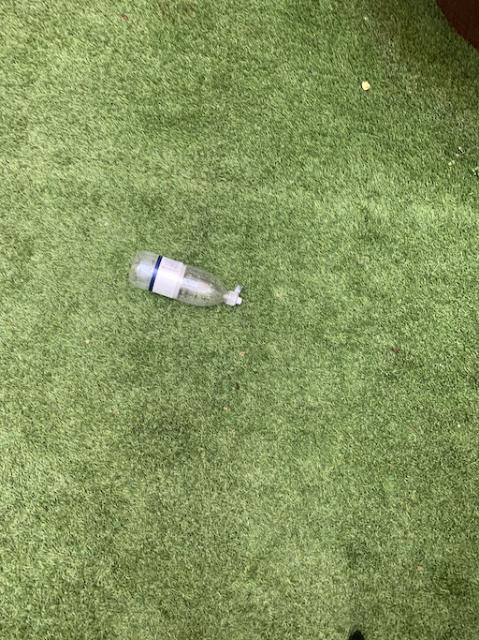plastic: (128, 250, 241, 305)
